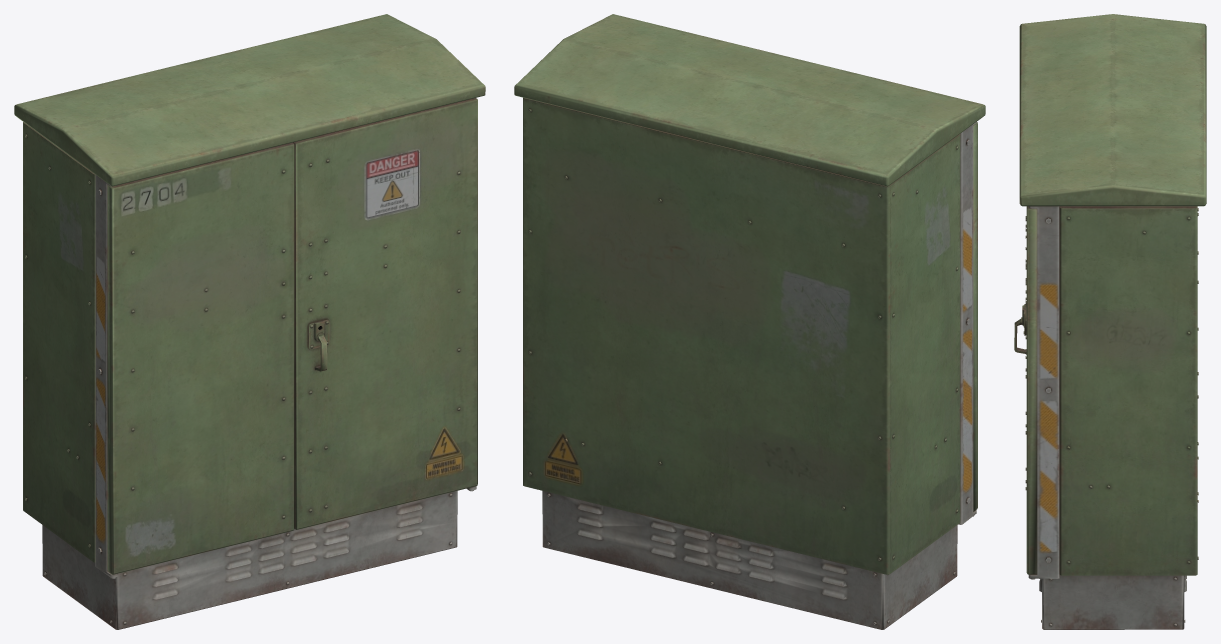
File: utility_box_02.glb
3 renders of one model, left to right at view 1: azimuth 30°, elevation 25°; view 2: azimuth 150°, elevation 25°; view 3: azimuth 270°, elevation 25°, orthographic. The views are drawn at different scales.
Visible parts, largest first — view 1: utility_box_02; view 2: utility_box_02; view 3: utility_box_02.
Part boxes in pixels (box(x1,y1,x2,y2)): utility_box_02: box(14, 14, 485, 629); utility_box_02: box(514, 14, 985, 629); utility_box_02: box(1014, 14, 1206, 629).
Bounding box in the file's own units: 0.92 × 1.12 × 0.432.
1 material, 1 textured.
